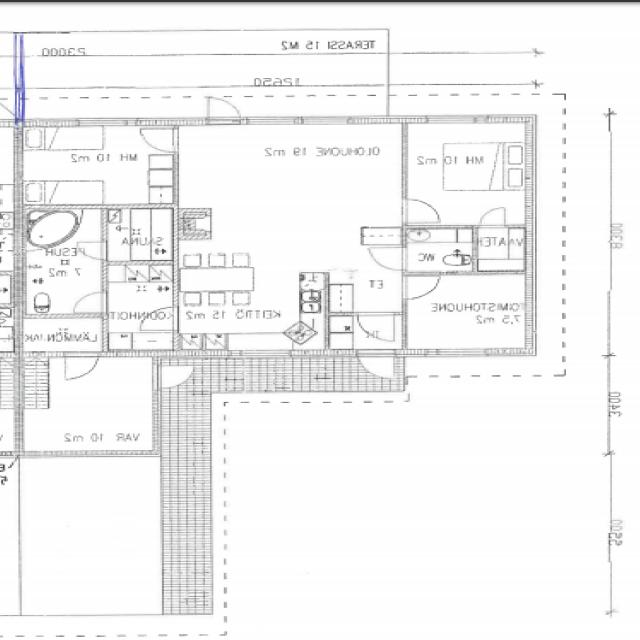door: (358, 350, 394, 382), (358, 311, 394, 340), (208, 92, 240, 124), (402, 198, 442, 223), (152, 365, 194, 388), (66, 350, 99, 379), (140, 128, 179, 152), (141, 307, 179, 330), (370, 247, 407, 269), (402, 277, 438, 298), (73, 292, 107, 312), (480, 206, 506, 229), (78, 242, 107, 259)
